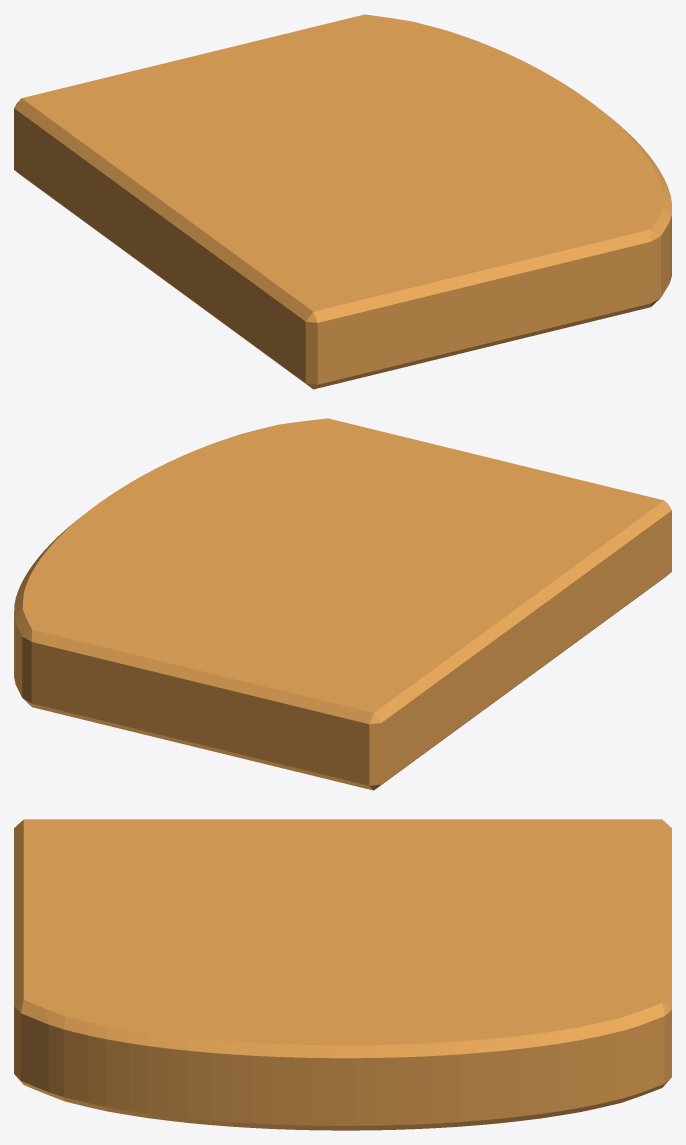
Rendered from Stage.fbx.
3 renders of one model, top to bottom at view 1: azimuth 30°, elevation 25°; view 2: azimuth 150°, elevation 25°; view 3: azimuth 270°, elevation 25°, orthographic. The views are drawn at different scales.
Parts seen in each view (by area): view 1: Cube; view 2: Cube; view 3: Cube.
Part boxes in pixels (x1,y1,x2,y2): Cube: (14, 14, 671, 389); Cube: (14, 418, 671, 790); Cube: (14, 819, 671, 1130).
Bounding box in the file's own units: 1179 × 200 × 1400.
